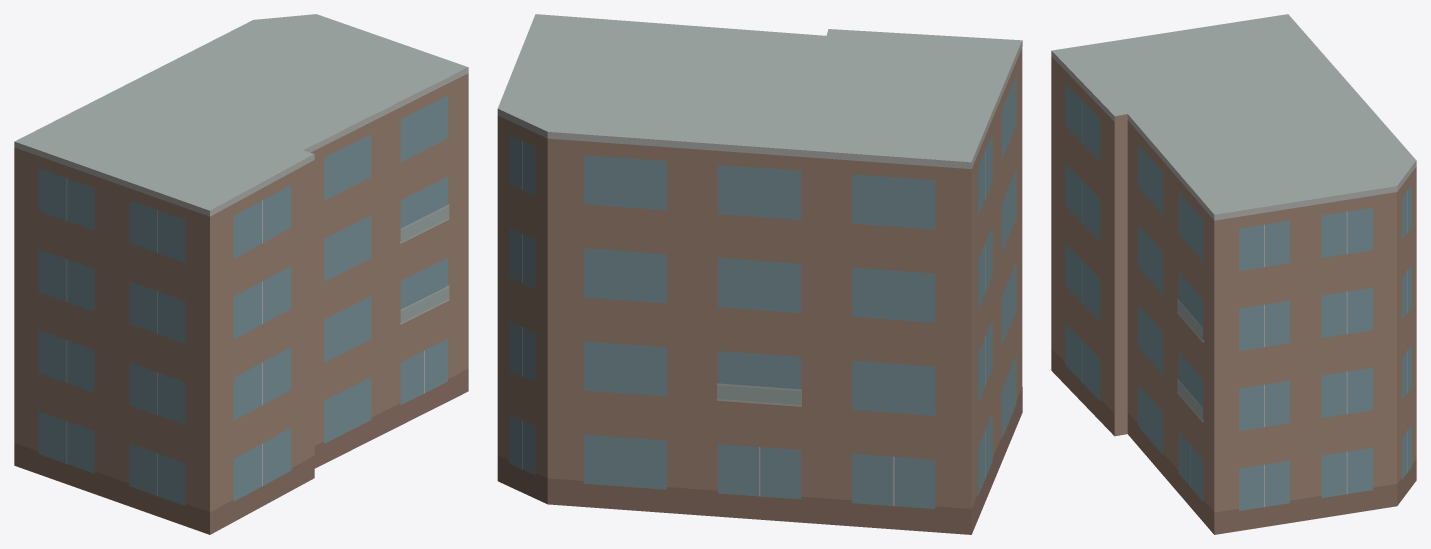
Rendered from survey-upis-33016114.glb.
The picture shows the model from 3 angles, left to right: view 1: azimuth 30°, elevation 25°; view 2: azimuth 150°, elevation 25°; view 3: azimuth 270°, elevation 25°; orthographic projection. The views are drawn at different scales.
Visible parts, largest first — view 1: survey-upis-33016114.tmp; view 2: survey-upis-33016114.tmp; view 3: survey-upis-33016114.tmp.
Boxes of the visible parts, <box> form: survey-upis-33016114.tmp: <box>14,14,468,534</box>; survey-upis-33016114.tmp: <box>497,14,1022,534</box>; survey-upis-33016114.tmp: <box>1051,14,1416,534</box>.
Bounding box in the file's own units: 18.04 × 13.4 × 13.86.
